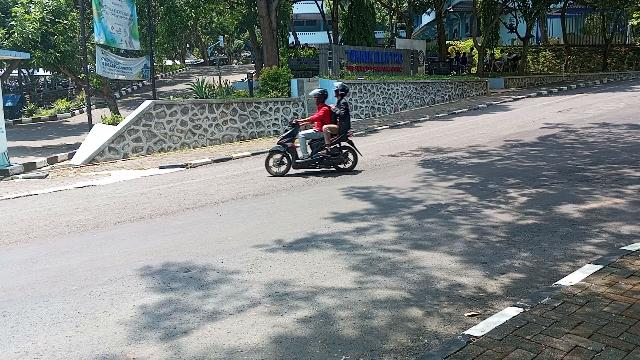helm: (310, 89, 329, 105), (334, 84, 350, 99)
motor: (267, 124, 364, 179)
